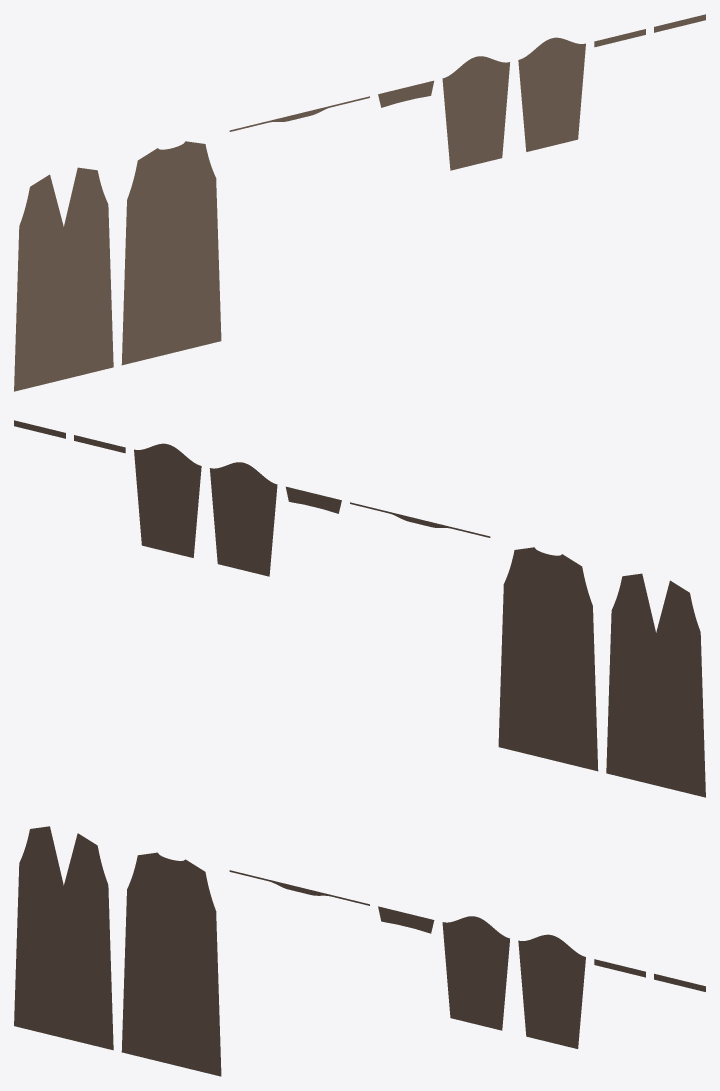
Rendered from abrigo-lana-cruzado-talla-S.glb.
3 renders of one model, top to bottom at view 1: azimuth 30°, elevation 25°; view 2: azimuth 150°, elevation 25°; view 3: azimuth 330°, elevation 25°, orthographic.
Visible parts, largest first — view 1: patron-espalda, patron-delantero, patron-manga-izq, patron-manga-der, patron-cuello-hoja; view 2: patron-espalda, patron-delantero, patron-manga-izq, patron-manga-der, patron-cuello-hoja; view 3: patron-espalda, patron-delantero, patron-manga-izq, patron-manga-der, patron-cuello-hoja, patron-cuello-pie.
Boxes of the visible parts, x1,y1,x2,y2 form: patron-espalda: (121,141,221,365); patron-delantero: (14,167,113,391); patron-manga-izq: (442,56,510,170); patron-manga-der: (518,37,585,151); patron-cuello-hoja: (378,80,433,107); patron-espalda: (498,547,598,771); patron-delantero: (606,573,705,797); patron-manga-izq: (209,462,277,576); patron-manga-der: (134,443,201,557); patron-cuello-hoja: (286,486,341,513); patron-espalda: (121,852,221,1076); patron-delantero: (14,826,113,1050); patron-manga-izq: (442,916,509,1030); patron-manga-der: (518,934,585,1048); patron-cuello-hoja: (378,906,434,933); patron-cuello-pie: (229,870,369,905).
Bounding box in the file's own units: 4.27 × 1.31 × 0.
